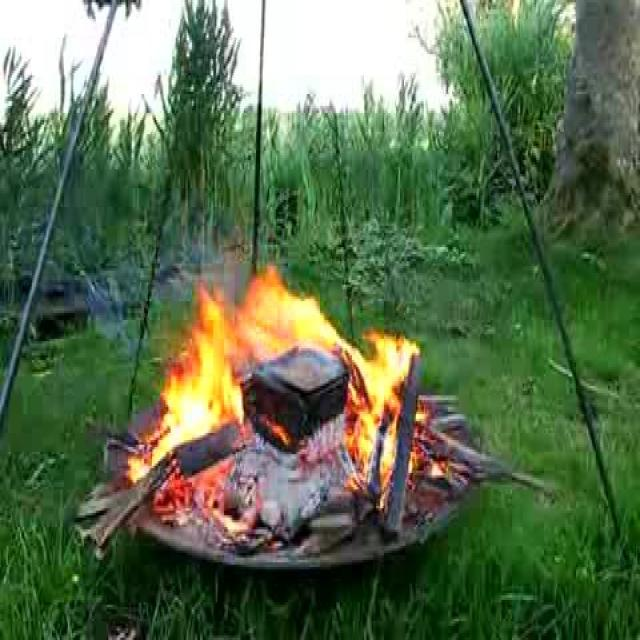fire: (146, 233, 438, 498)
